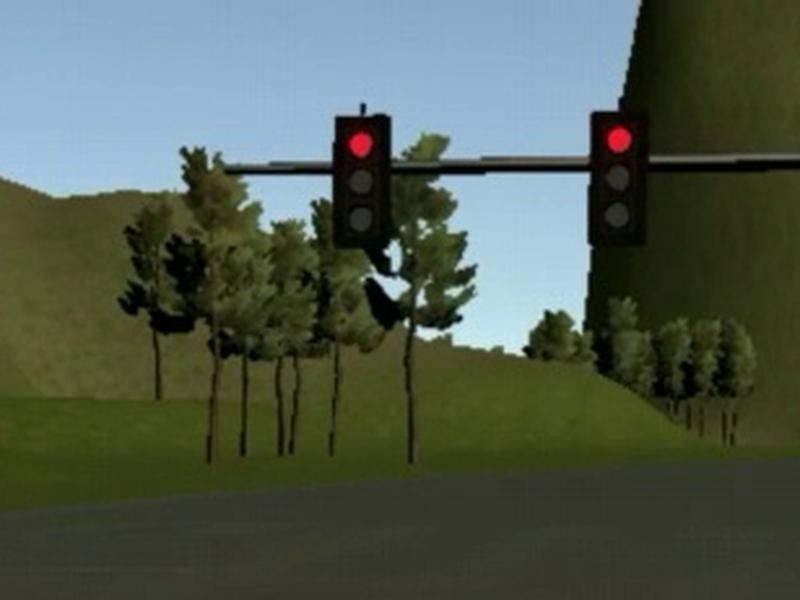Red: (588, 109, 648, 245), (332, 116, 388, 247)
